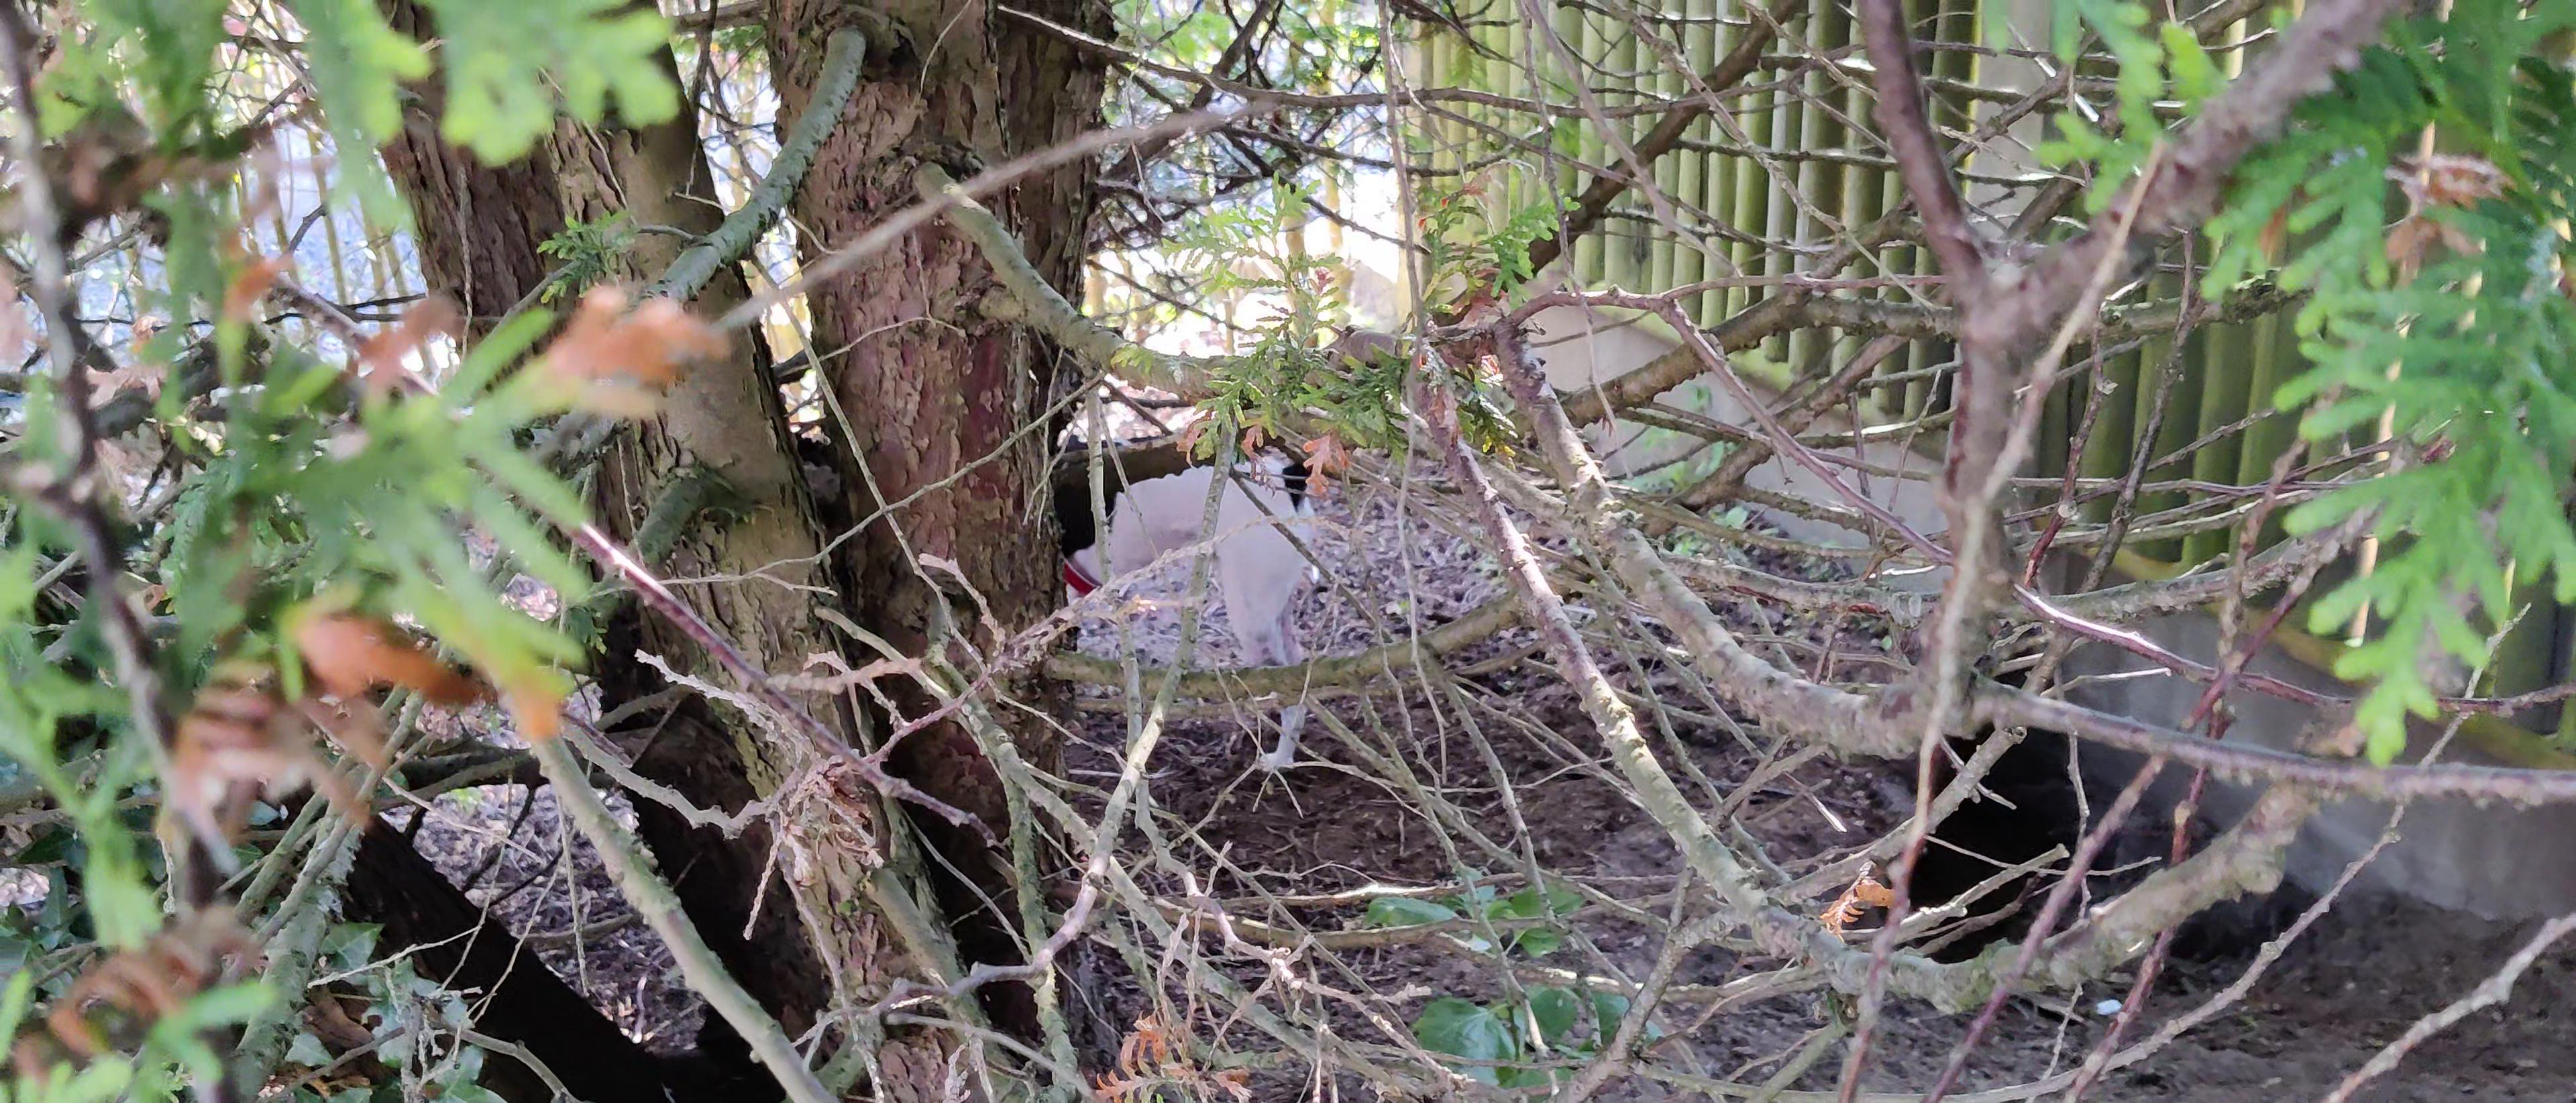Dog: (1053, 344, 1336, 774)
